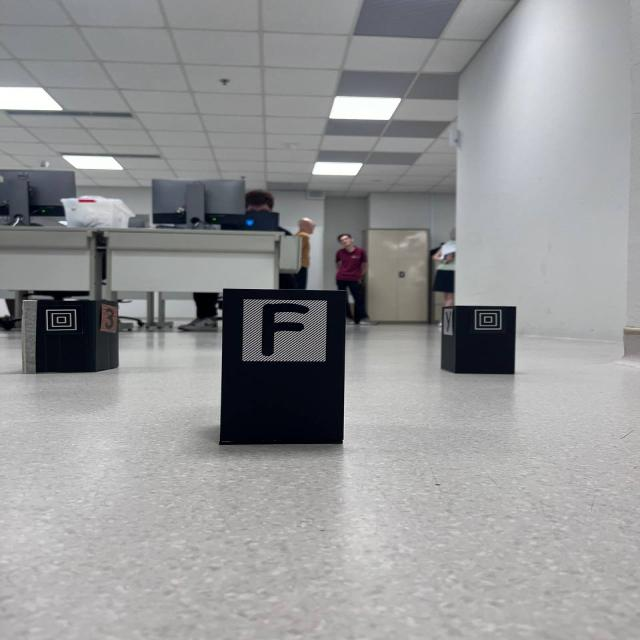F_id25: (245, 299, 328, 364)
Y_id34: (443, 309, 453, 336)
bullseye-id10: (40, 306, 83, 334), (469, 308, 506, 334)
three_id13: (100, 304, 118, 333)
